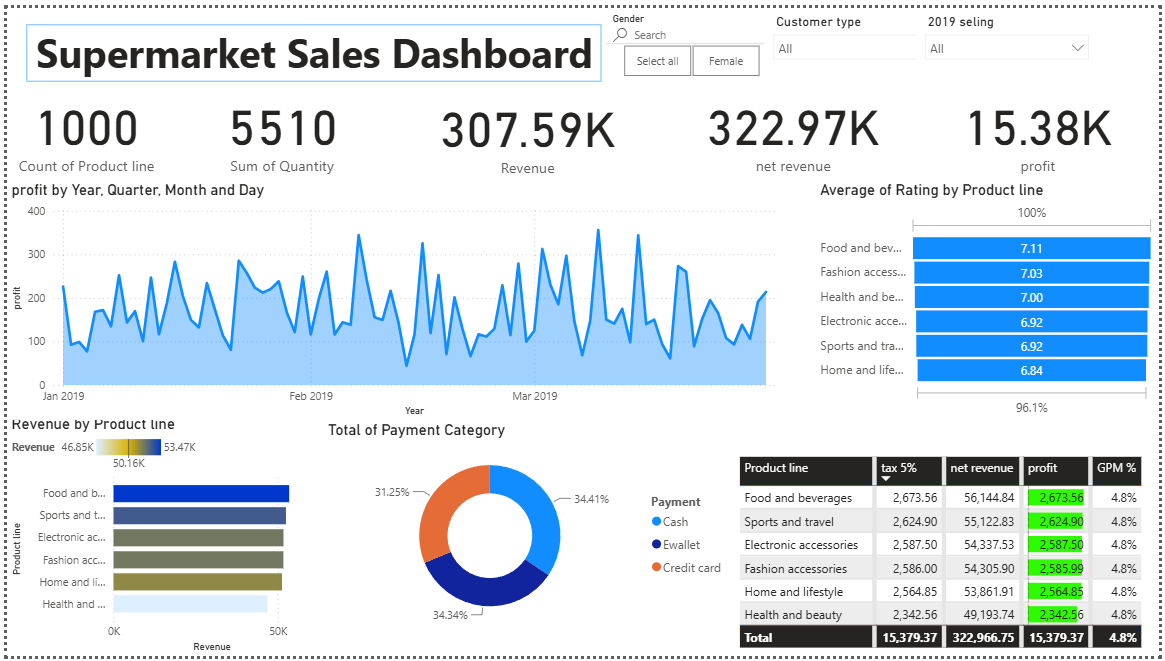

The page's visual inventory and layout, read from the dashboard file:
{"tool":"powerbi","page":{"name":"Page 1","canvas":[1280,720],"ordinal":0},"visuals":[{"type":"tableEx","fields":{"Values":["supermarket_sales.Product line","supermarket_sales.tax 5%","supermarket_sales.net revenue","supermarket_sales.profit","supermarket_sales.GPM %"]},"box":[808,494,472,226],"z":0},{"type":"donutChart","title":"Total of Payment Category","fields":{"Y":["Sum(supermarket_sales.Quantity)"],"Category":["supermarket_sales.Payment"]},"box":[352,458,456,236],"z":1000},{"type":"barChart","fields":{"Category":["supermarket_sales.Product line"],"Y":["supermarket_sales.Revenue"]},"box":[0,452,352,268],"z":2000},{"type":"areaChart","fields":{"Y":["supermarket_sales.profit"],"Category":["supermarket_sales.Date.Variation.Date Hierarchy.Year","supermarket_sales.Date.Variation.Date Hierarchy.Quarter","supermarket_sales.Date.Variation.Date Hierarchy.Month","supermarket_sales.Date.Variation.Date Hierarchy.Day"]},"box":[0,192,874,266],"z":3000},{"type":"funnel","fields":{"Category":["supermarket_sales.Product line"],"Y":["Avg(supermarket_sales.Rating)"]},"box":[898,192,382,266],"z":3001},{"type":"card","fields":{"Values":["CountNonNull(supermarket_sales.Product line)"]},"box":[0,82,176,110],"z":3002},{"type":"card","fields":{"Values":["Sum(supermarket_sales.Quantity)"]},"box":[214,82,184,110],"z":3003},{"type":"card","fields":{"Values":["supermarket_sales.Revenue"]},"box":[454,84,250,110],"z":3004},{"type":"card","fields":{"Values":["supermarket_sales.net revenue"]},"box":[738,82,270,110],"z":3005},{"type":"card","fields":{"Values":["supermarket_sales.profit"]},"box":[1010,82,270,110],"z":3006},{"type":"slicer","fields":{"Values":["supermarket_sales.Gender"]},"box":[660,0,200,82],"z":3007},{"type":"slicer","fields":{"Values":["supermarket_sales.Customer type"]},"box":[841.7,1.7,201.7,81.7],"z":3008},{"type":"slicer","fields":{"Values":["supermarket_sales.Date.Variation.Date Hierarchy.Month"]},"box":[1010,2,202,82],"z":3009},{"type":"textbox","title":"Supermarket Sales Dashboard","box":[21.7,18.3,638.3,63.3],"z":3010}]}

Visuals, with their boxes in screenshot pixels (x1, y1, x2, y2), scaled from the page's 1280x720 canvas onto the 1165x661 screenshot:
tableEx - supermarket_sales.Product line x supermarket_sales.tax 5%: BBox(735, 454, 1164, 660)
"Total of Payment Category" donutChart: BBox(320, 420, 735, 637)
barChart - supermarket_sales.Product line x supermarket_sales.Revenue: BBox(0, 415, 320, 660)
areaChart - supermarket_sales.profit x supermarket_sales.Date.Variation.Date Hierarchy.Year: BBox(0, 176, 795, 420)
funnel - supermarket_sales.Product line x Avg(supermarket_sales.Rating): BBox(817, 176, 1164, 420)
card - CountNonNull(supermarket_sales.Product line): BBox(0, 75, 160, 176)
card - Sum(supermarket_sales.Quantity): BBox(195, 75, 362, 176)
card - supermarket_sales.Revenue: BBox(413, 77, 641, 178)
card - supermarket_sales.net revenue: BBox(672, 75, 917, 176)
card - supermarket_sales.profit: BBox(919, 75, 1164, 176)
slicer - supermarket_sales.Gender: BBox(601, 0, 783, 75)
slicer - supermarket_sales.Customer type: BBox(766, 2, 950, 77)
slicer - supermarket_sales.Date.Variation.Date Hierarchy.Month: BBox(919, 2, 1103, 77)
"Supermarket Sales Dashboard" textbox: BBox(20, 17, 601, 75)
